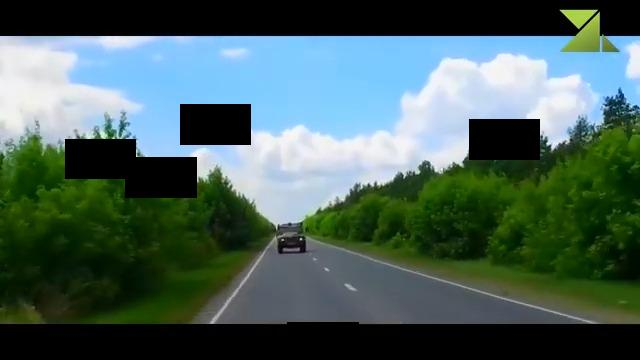MIL_HMMWV: (277, 222, 310, 253)
